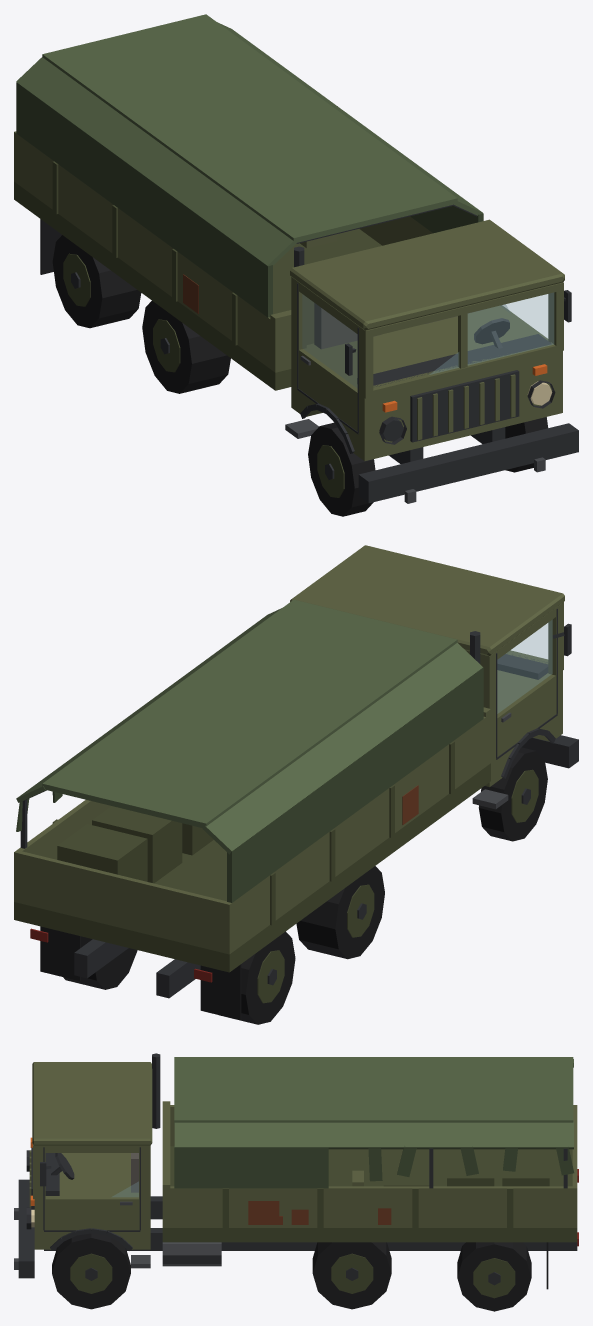
Rendered from SM_Borgo_Truck_Wreck.glb.
The picture shows the model from 3 angles, top to bottom: view 1: azimuth 30°, elevation 25°; view 2: azimuth 150°, elevation 25°; view 3: azimuth 270°, elevation 25°; orthographic projection. The views are drawn at different scales.
Parts seen in each view (by area): view 1: SM_Borgo_Truck_Wreck; view 2: SM_Borgo_Truck_Wreck; view 3: SM_Borgo_Truck_Wreck.
Part boxes in pixels (bbox=[...]): SM_Borgo_Truck_Wreck: bbox=[14, 14, 578, 516]; SM_Borgo_Truck_Wreck: bbox=[14, 545, 578, 1024]; SM_Borgo_Truck_Wreck: bbox=[14, 1053, 578, 1311].
Bounding box in the file's own units: 2.58 × 2.59 × 7.15.
Materials: 2 (2 with a texture image).
